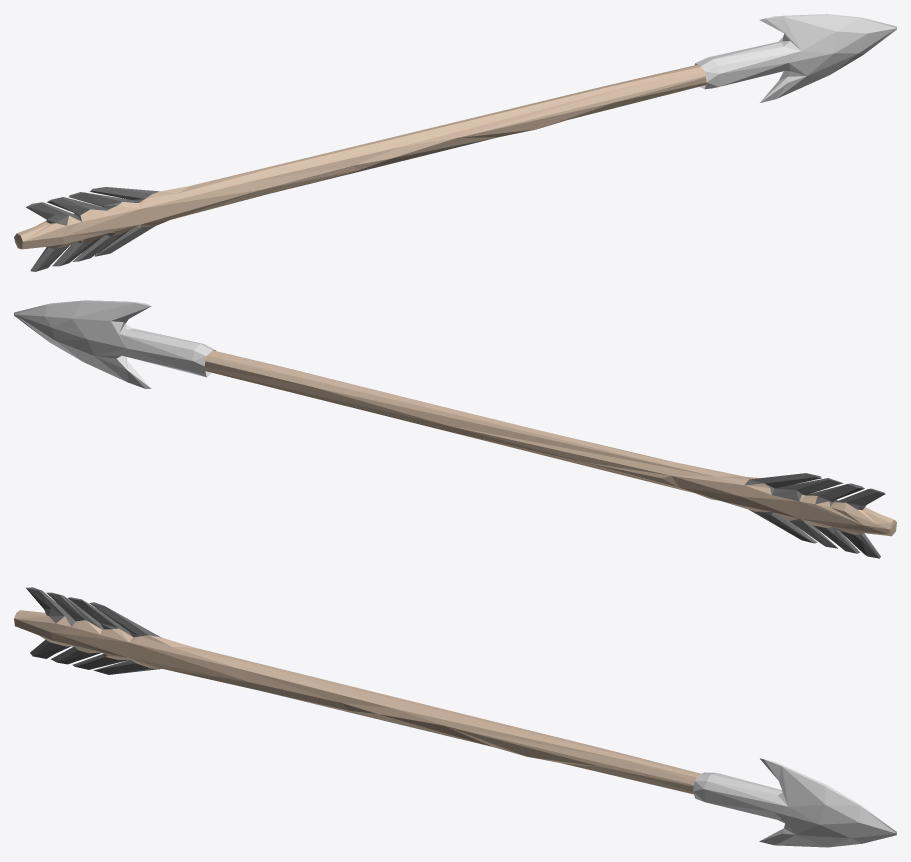
File: arrow.glb
3 renders of one model, top to bottom at view 1: azimuth 30°, elevation 25°; view 2: azimuth 150°, elevation 25°; view 3: azimuth 330°, elevation 25°, orthographic.
Parts seen in each view (by area): view 1: Cube, Cube.001; view 2: Cube, Cube.001; view 3: Cube, Cube.001.
Boxes of the visible parts, x1,y1,x2,y2 form: Cube: (14, 64, 706, 271); Cube.001: (694, 14, 896, 102); Cube: (204, 350, 896, 558); Cube.001: (14, 300, 215, 388); Cube: (14, 587, 700, 794); Cube.001: (693, 758, 896, 847).
Bounding box in the file's own units: 1.23 × 0.1128 × 0.0376.
